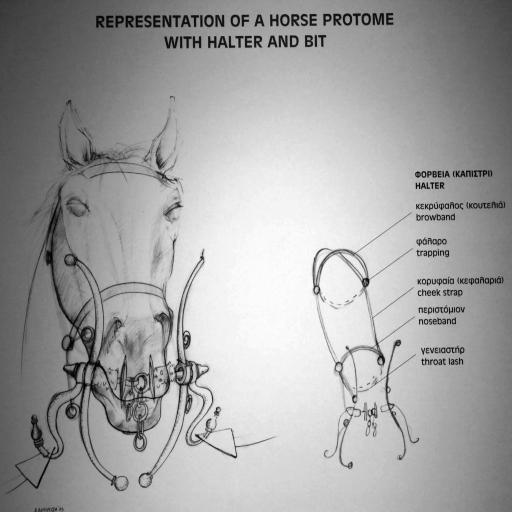horse: (0, 97, 221, 493)
